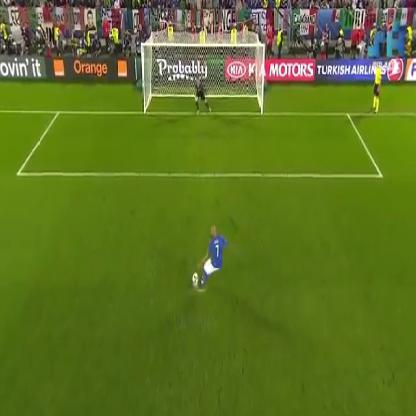penalty kick: (134, 30, 272, 299)
